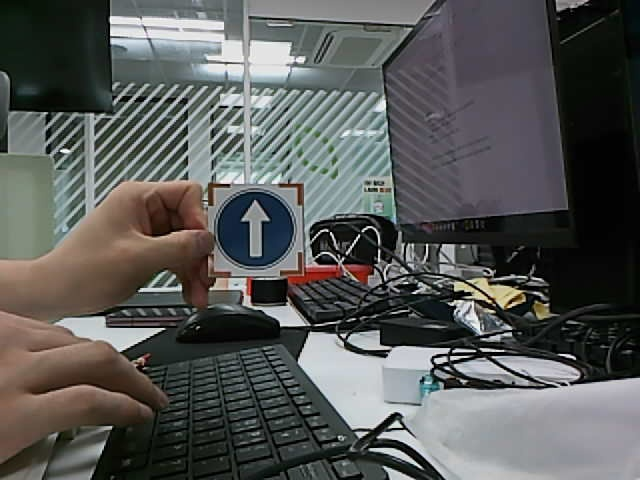go: (214, 188, 298, 271)
